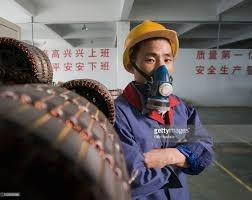helmet: (122, 18, 181, 70)
person with partial safety: (114, 17, 219, 158)
